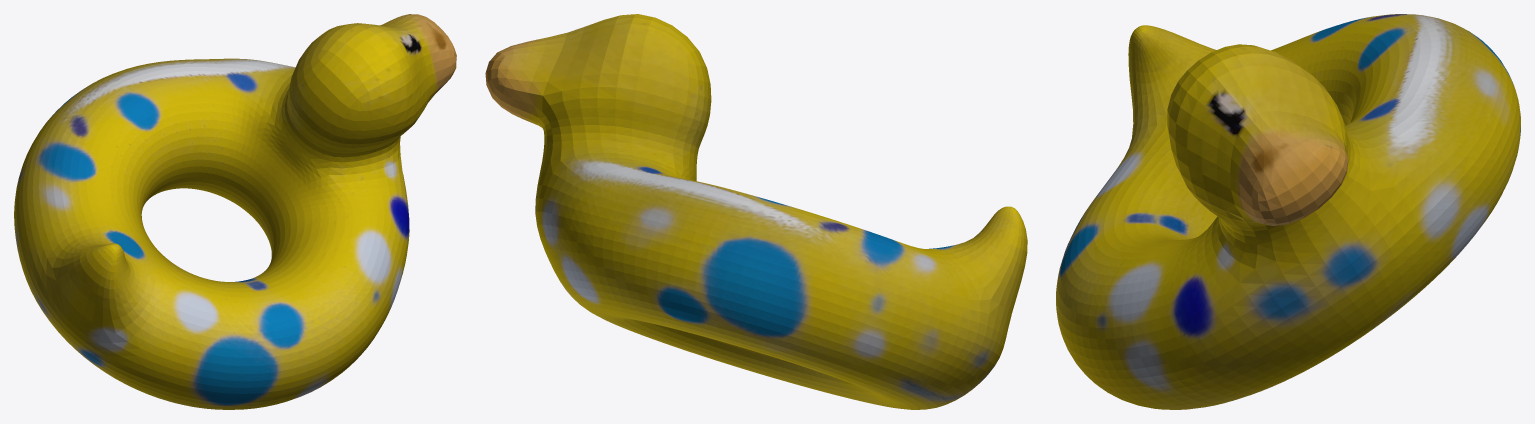
The model's file is duck_t1.glb.
The picture shows the model from 3 angles, left to right: view 1: azimuth 30°, elevation 25°; view 2: azimuth 150°, elevation 25°; view 3: azimuth 270°, elevation 25°; orthographic projection. The views are drawn at different scales.
Visible parts, largest first — view 1: world; view 2: world; view 3: world.
Part boxes in pixels (<box>): world: <box>14,14,456,409</box>; world: <box>485,14,1027,409</box>; world: <box>1056,14,1520,409</box>.
Size of the model in its own units: 0.9687 by 0.6857 by 0.7025.
